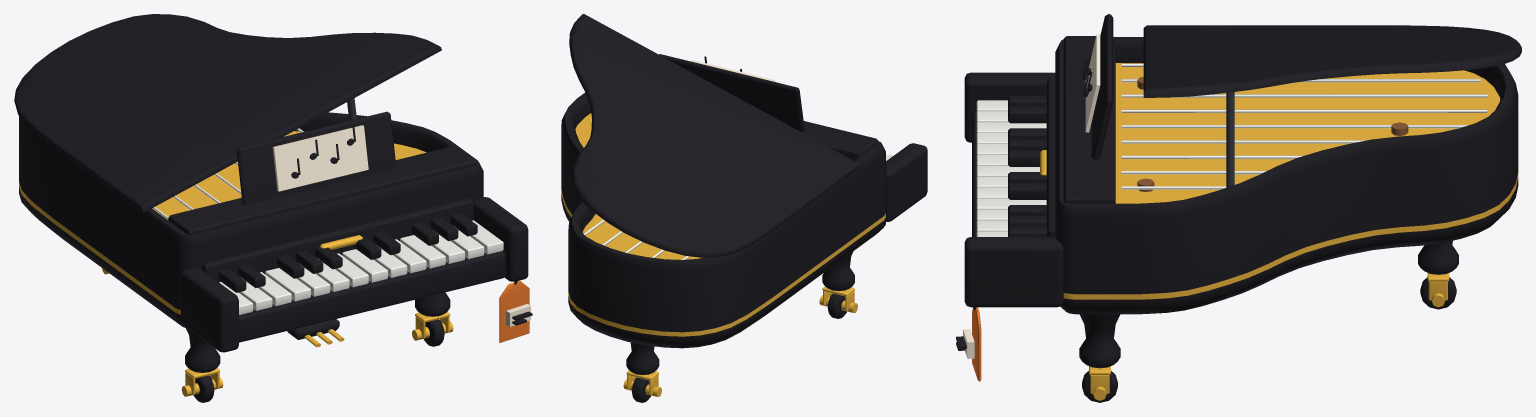
File: Piano.fbx
The picture shows the model from 3 angles, left to right: view 1: azimuth 30°, elevation 25°; view 2: azimuth 150°, elevation 25°; view 3: azimuth 270°, elevation 25°; orthographic projection. The views are drawn at different scales.
Parts seen in each view (by area): view 1: Piano; view 2: Piano; view 3: Piano.
Boxes of the visible parts, <box> form: Piano: <box>14,14,532,402</box>; Piano: <box>561,14,927,402</box>; Piano: <box>956,14,1521,402</box>.
Bounding box in the file's own units: 3.52 × 2.97 × 4.68.
1 material, 1 textured.
